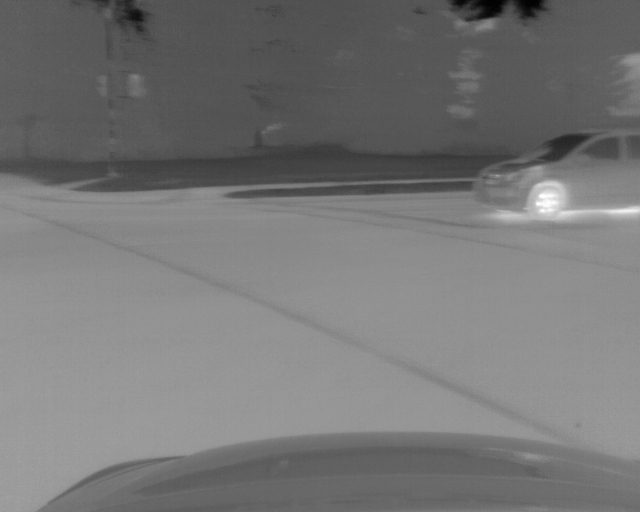car: (473, 125, 640, 218)
